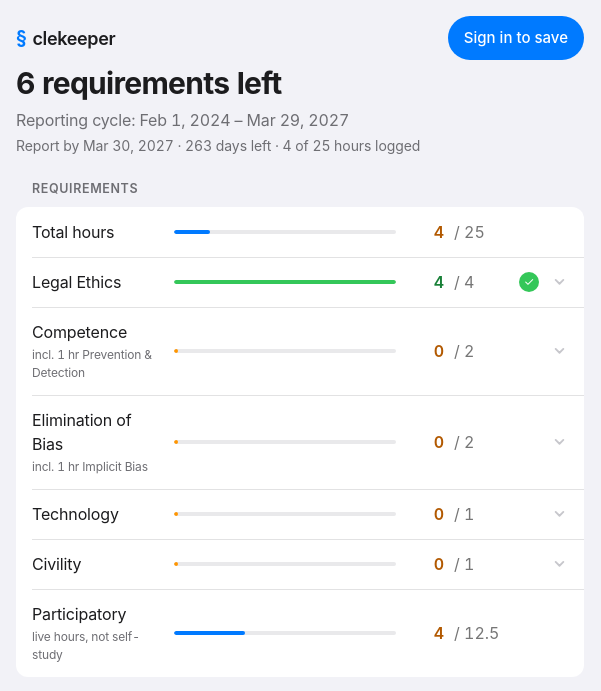
it: shows "Sign in to save" for a guest and hides it once linked
Click the button "Sign in to save".
click(516, 38)  # box [448,16,584,60]
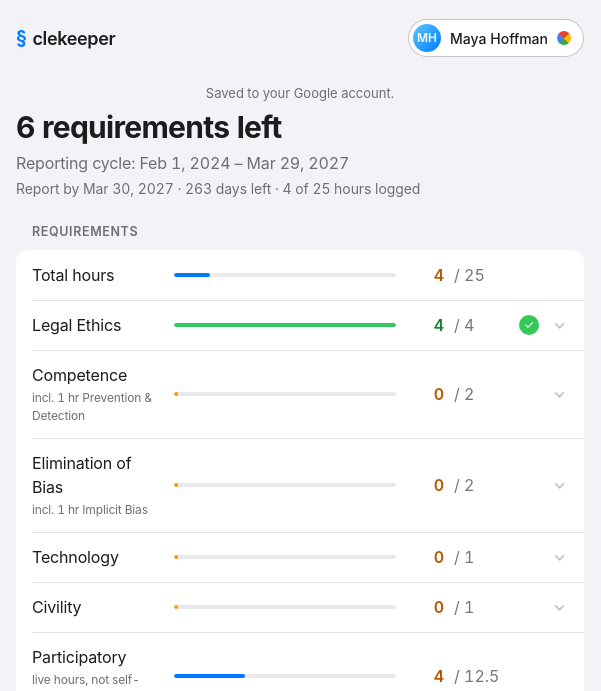
Now the button "Sign in to save" is gone
Now the text "Saved to your Google account." is shown, box [206,85,394,101]
Now the text "Maya Hoffman" is shown, box [450,28,548,48]
